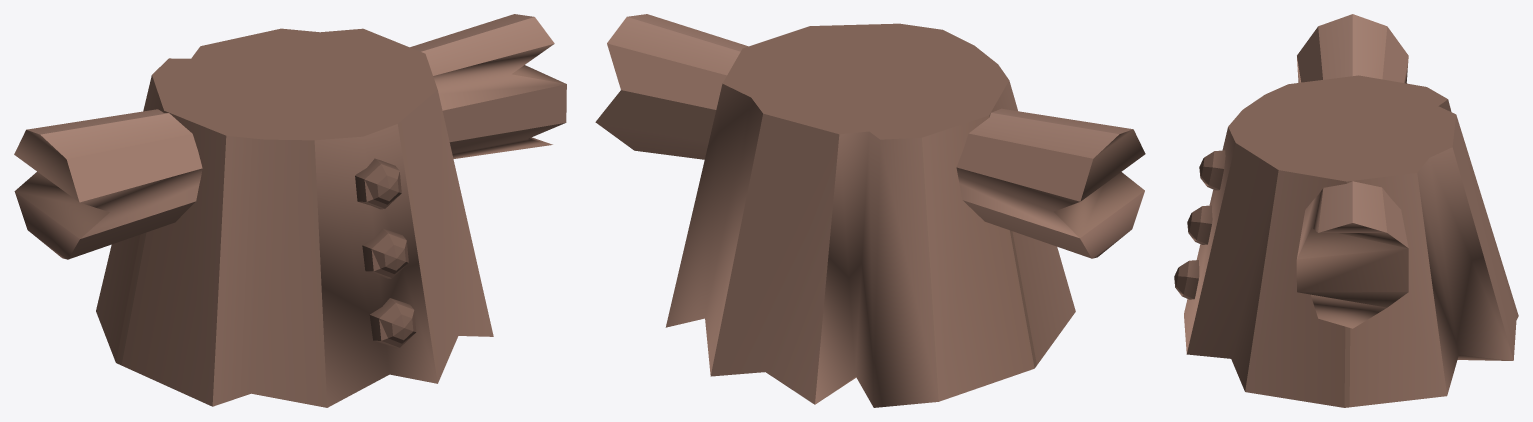
Rendered from scareCrowBrownShirt.glb.
The picture shows the model from 3 angles, left to right: view 1: azimuth 30°, elevation 25°; view 2: azimuth 150°, elevation 25°; view 3: azimuth 270°, elevation 25°; orthographic projection. The views are drawn at different scales.
Visible parts, largest first — view 1: scareCrowBrownShirt; view 2: scareCrowBrownShirt; view 3: scareCrowBrownShirt.
Part boxes in pixels (x1,y1,x2,y2): scareCrowBrownShirt: (14,14,566,407); scareCrowBrownShirt: (595,14,1145,407); scareCrowBrownShirt: (1174,14,1518,407).
Bounding box in the file's own units: 0.581 × 0.2823 × 0.41.
